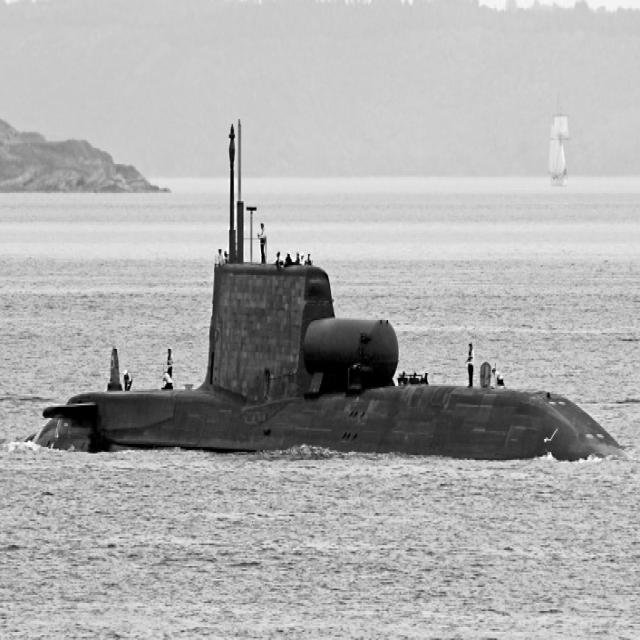submarine: (34, 264, 640, 449)
